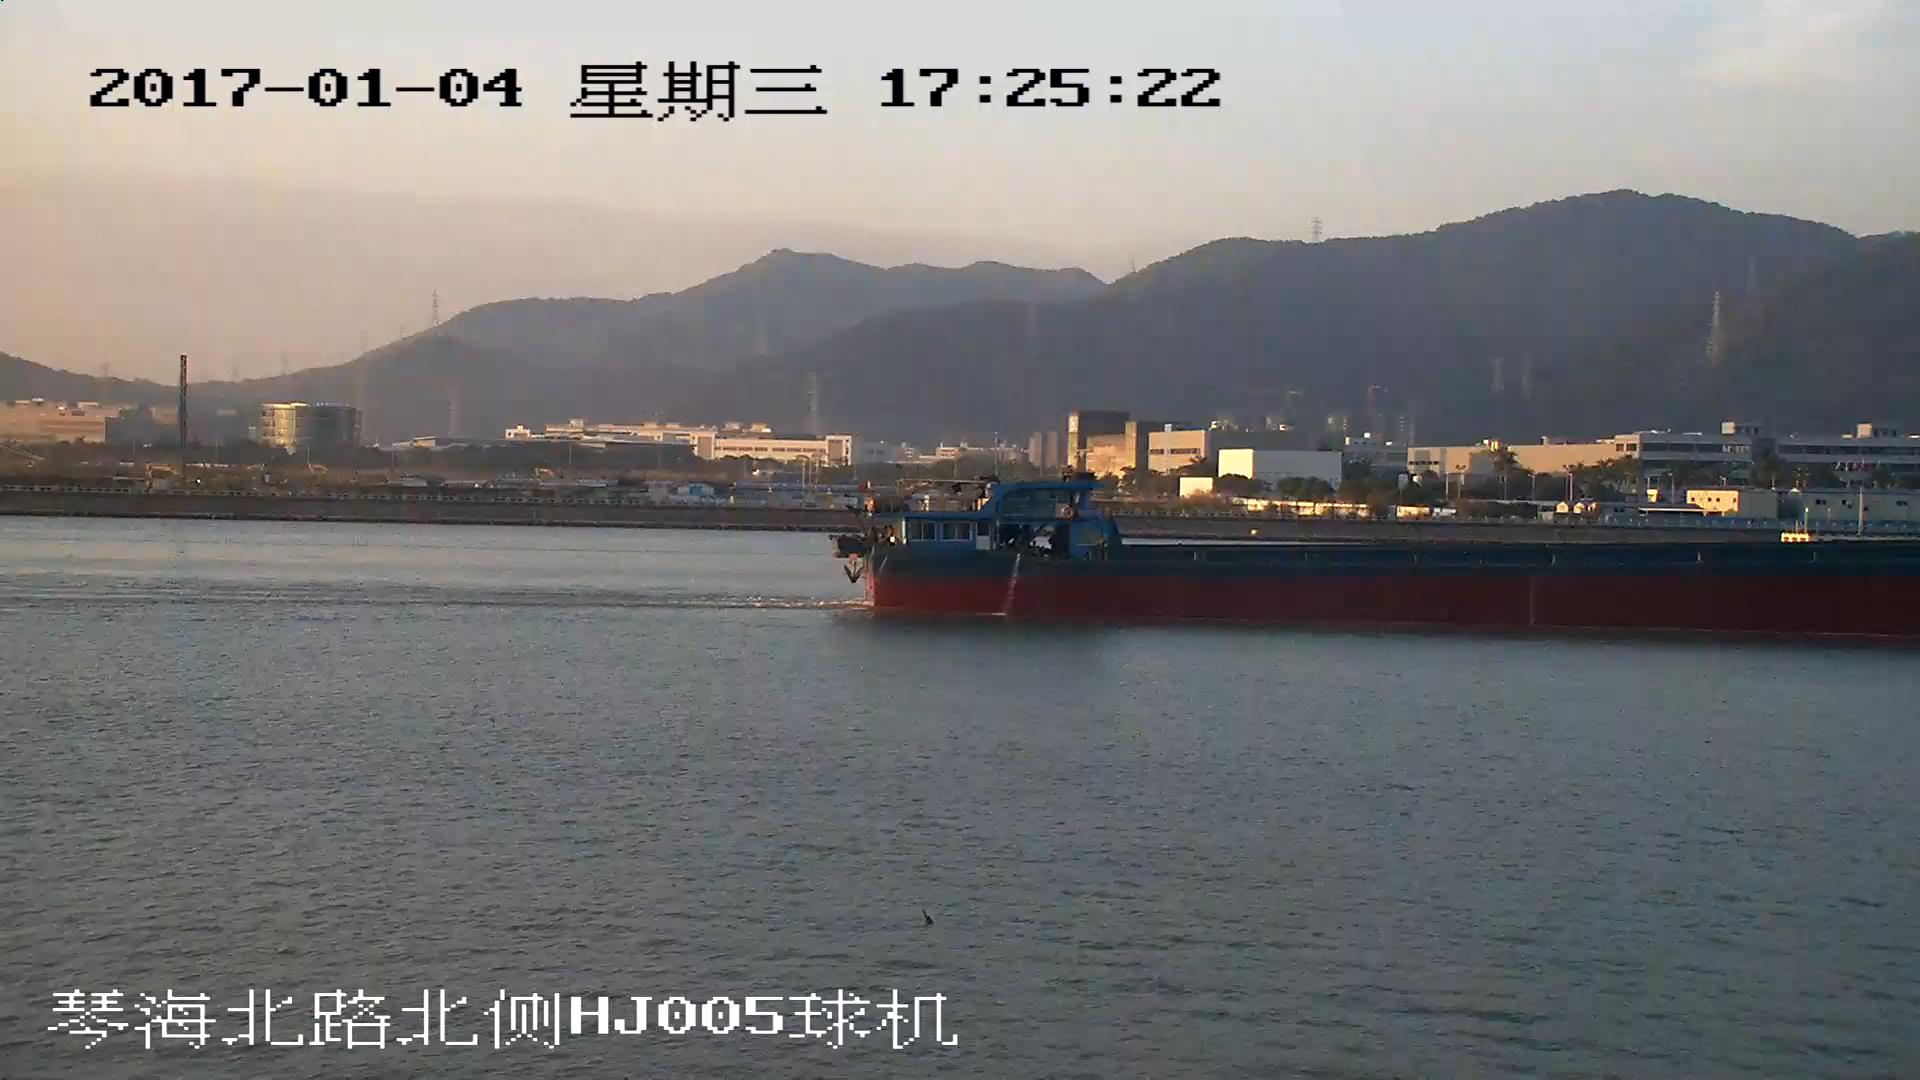general cargo ship: (842, 474, 1920, 640)
